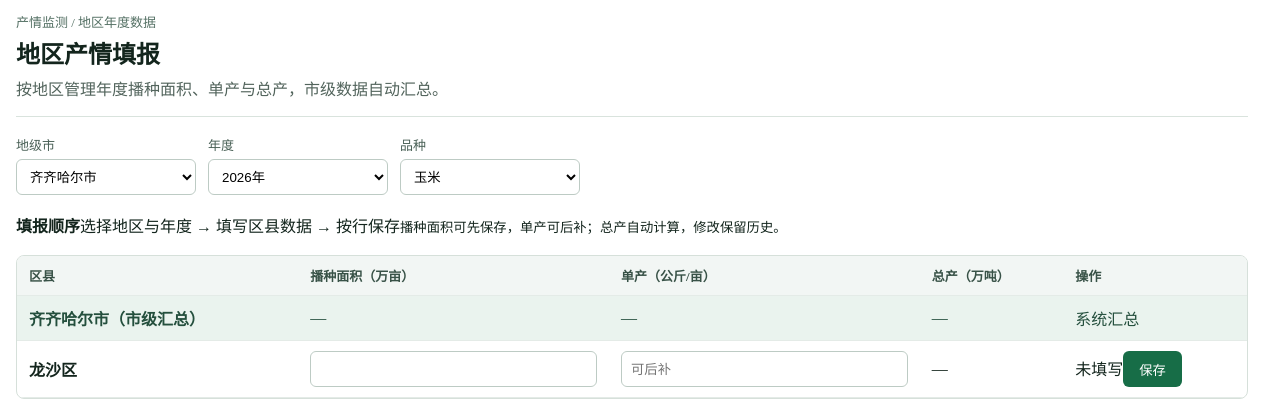
RegionalAnnualProductionWorkspace › saves planted area while yield is not yet available
Expected: the column heading "齐齐哈尔市（市级汇总）" is shown, [17, 296, 298, 340]
In the number field named "龙沙区播种面积": (454, 369) [310, 351, 597, 387], type "1.778"
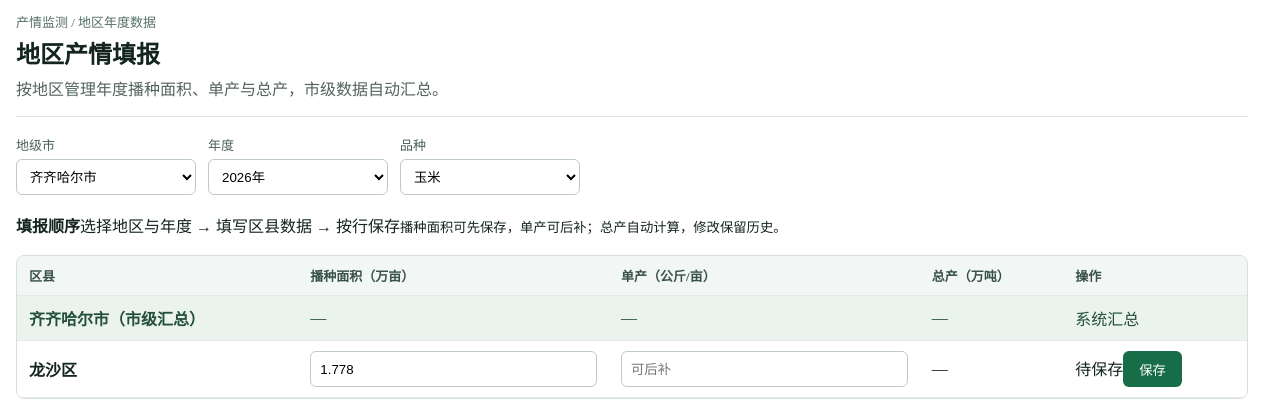
Click the button with aria-label "保存龙沙区": (1153, 369) [1123, 351, 1182, 387]
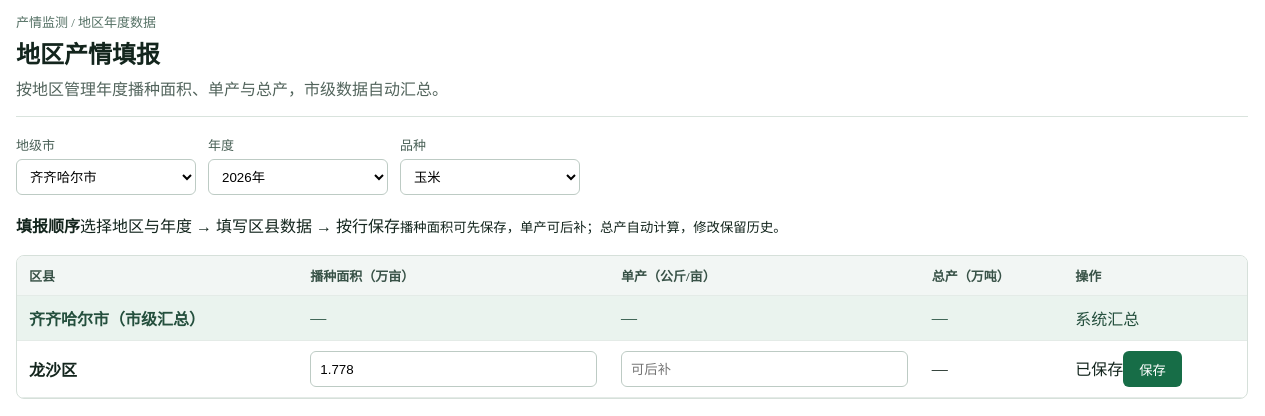
Now the text "已保存" is shown, box [1075, 360, 1123, 378]
